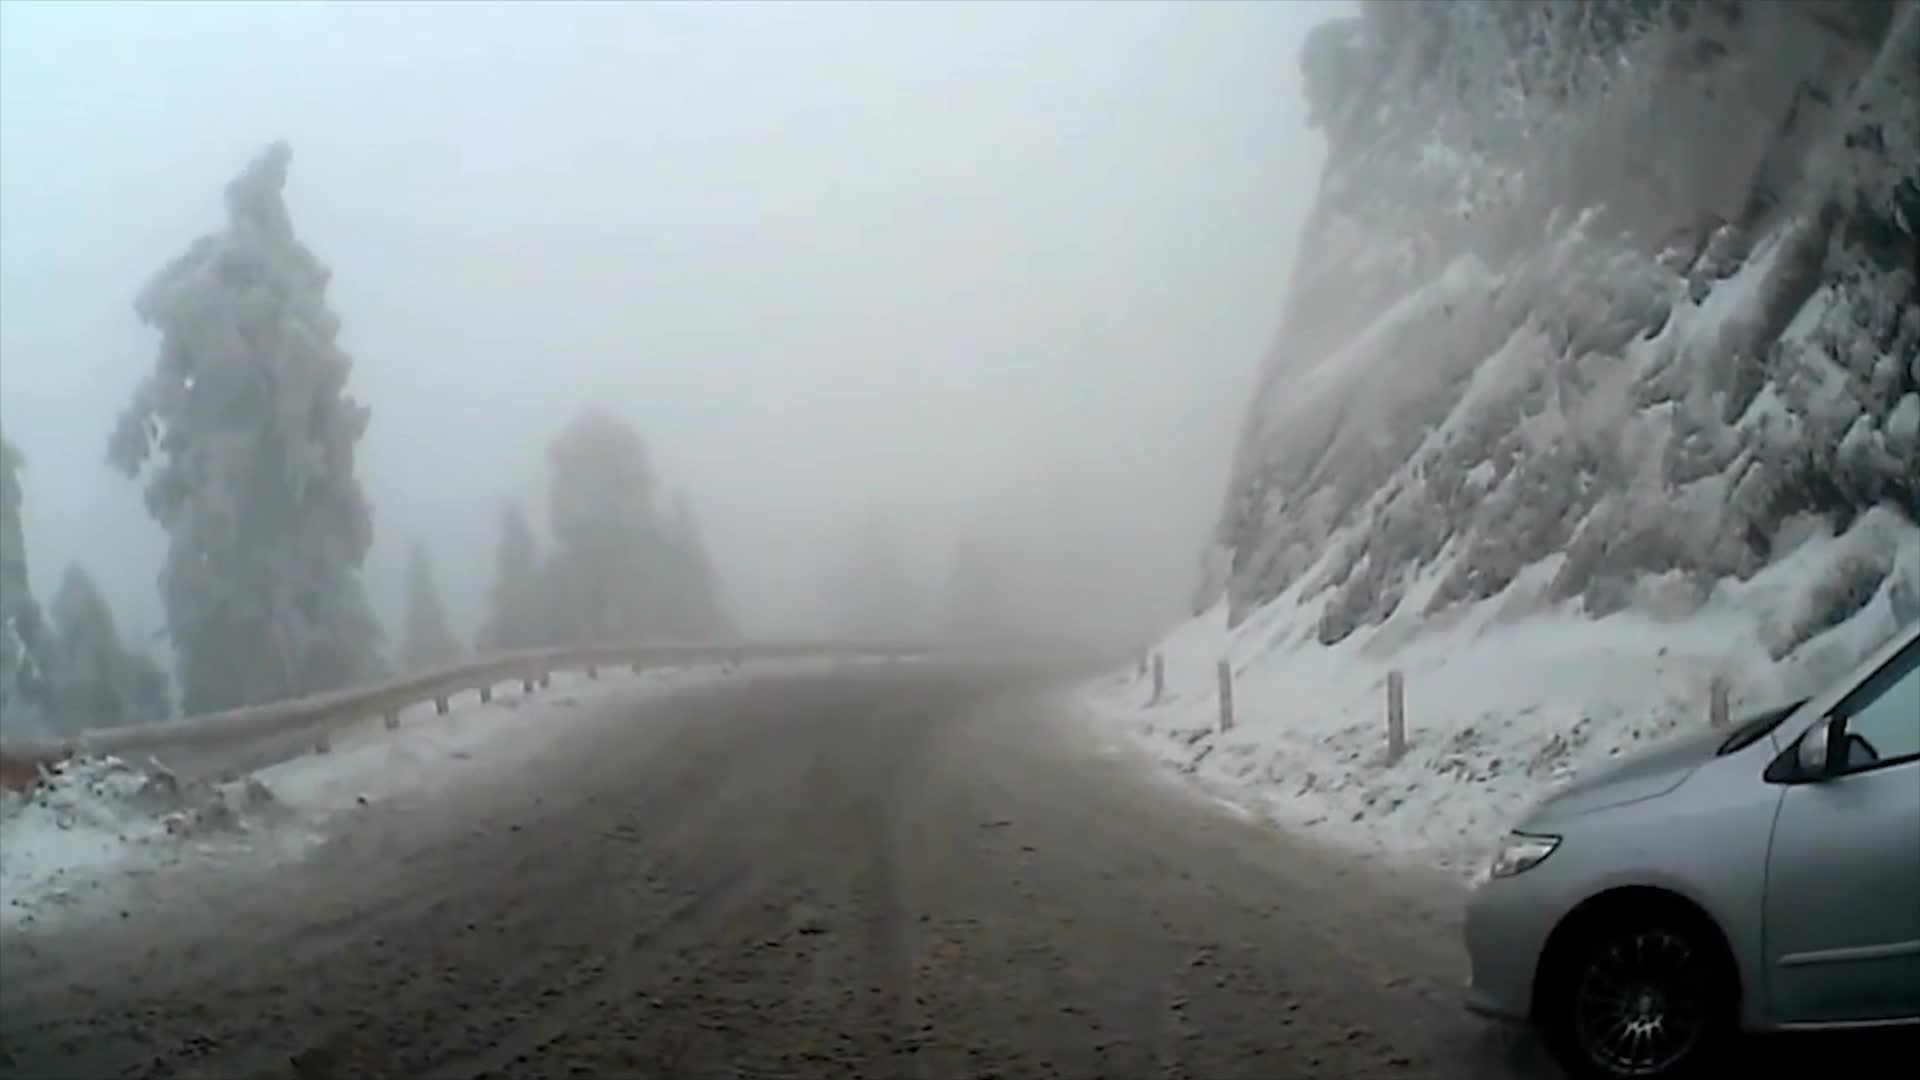vehicle: (1457, 612, 1920, 1080)
